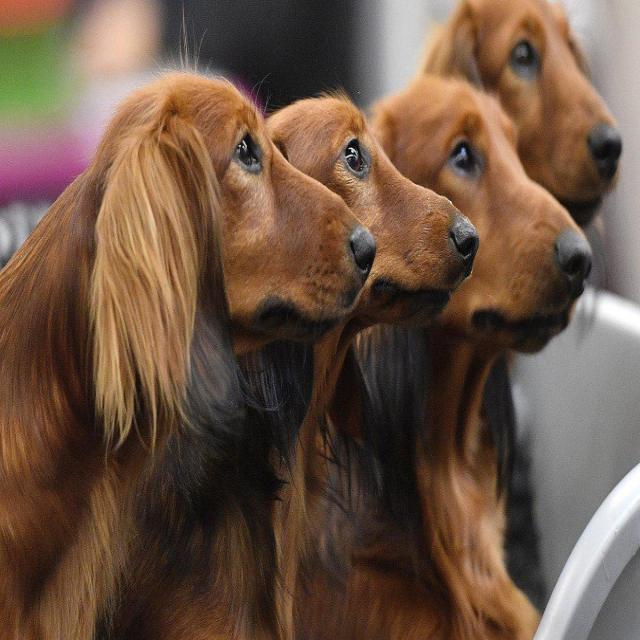Dog: (92, 56, 378, 436), (384, 71, 596, 366), (277, 78, 483, 342), (427, 1, 629, 226)
